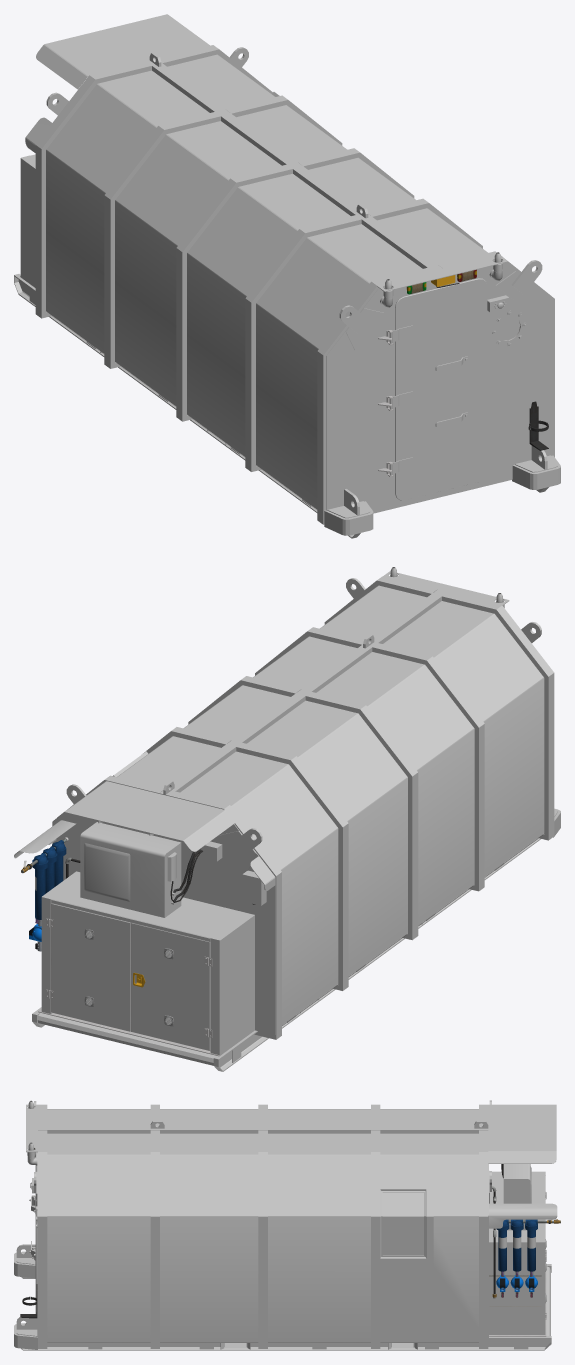
Rendered from HRM_12AL_v6.FBX.
The picture shows the model from 3 angles, top to bottom: view 1: azimuth 30°, elevation 25°; view 2: azimuth 150°, elevation 25°; view 3: azimuth 270°, elevation 25°; orthographic projection. The views are drawn at different scales.
Parts seen in each view (by area): view 1: Refuge, DoorHinge_Front; view 2: Refuge; view 3: Refuge, DoorHinge_Front.
Part boxes in pixels (x1,y1,x2,y2): Refuge: (14,14,560,538); DoorHinge_Front: (389,278,487,500); Refuge: (14,567,560,1071); Refuge: (14,1100,560,1350); DoorHinge_Front: (32,1148,37,1313).
Size of the model in its own units: 2142 by 2170 by 5597.
